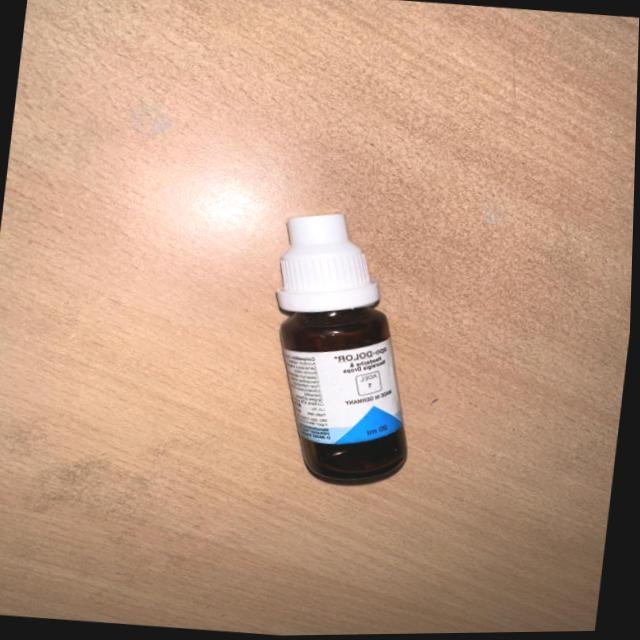medicine: (251, 198, 433, 481)
